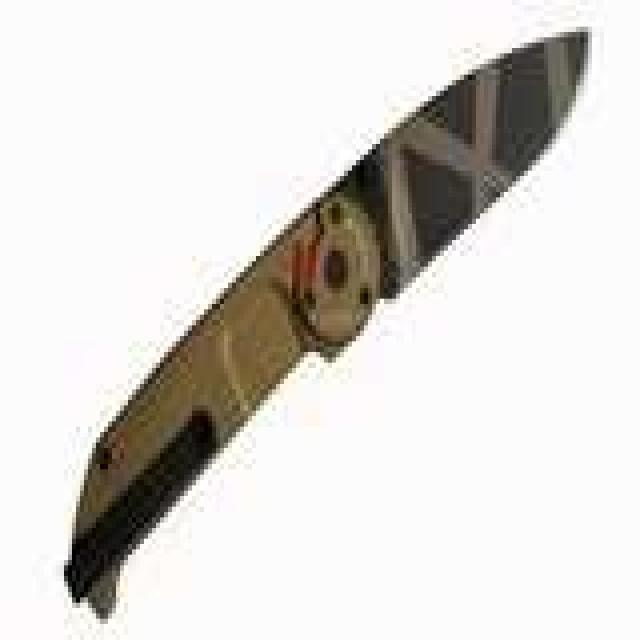weapon: (62, 13, 596, 626)
